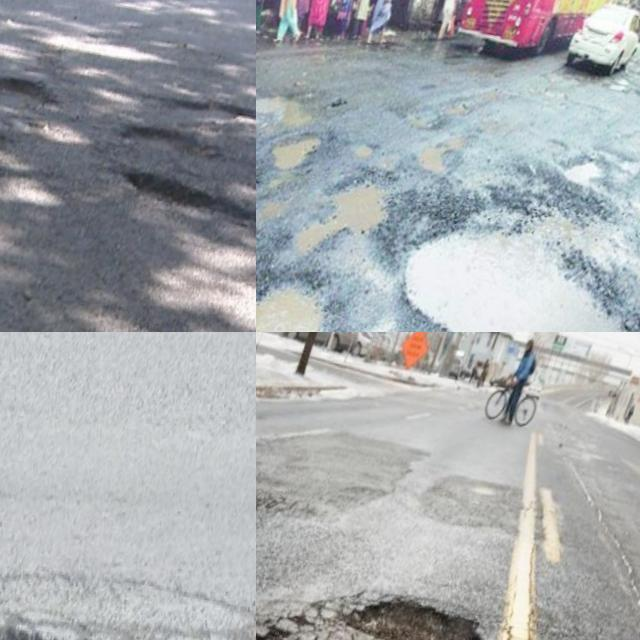Potholes: (355, 125, 640, 332), (90, 64, 256, 301), (27, 0, 244, 181), (0, 487, 253, 640), (0, 0, 133, 263), (301, 515, 543, 640), (260, 130, 427, 305), (530, 119, 640, 242), (256, 259, 369, 332), (256, 67, 329, 173)
